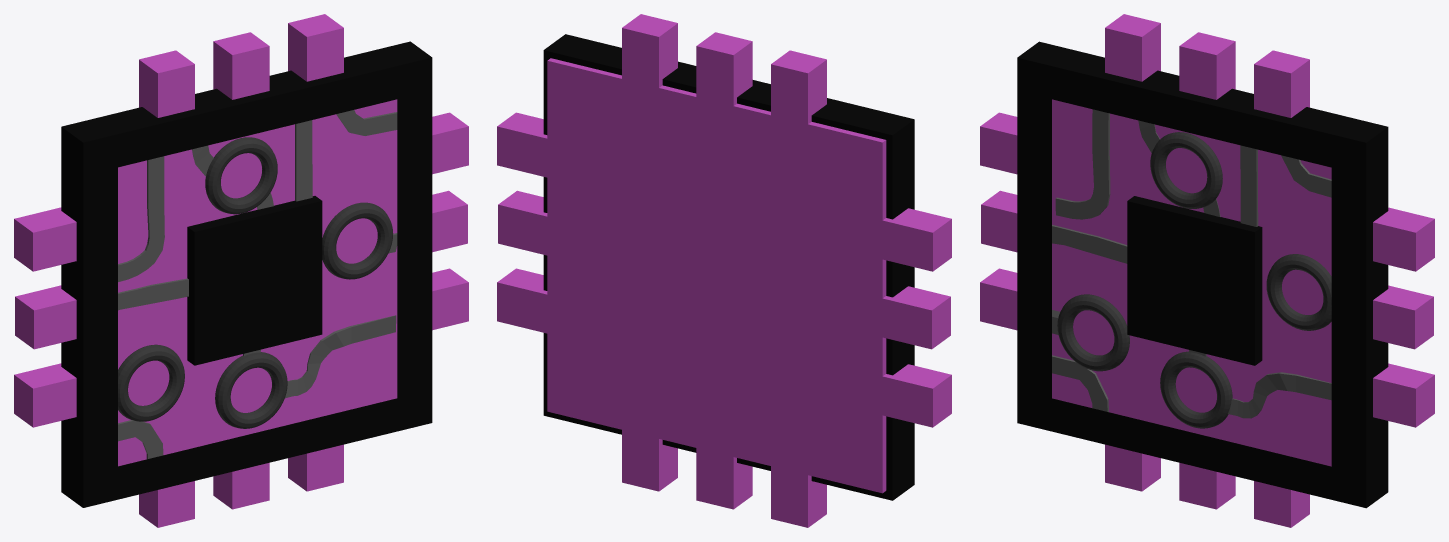
Rendered from chip8.gltf.
3 views of the same model, side by side, from view 1: azimuth 30°, elevation 25°; view 2: azimuth 150°, elevation 25°; view 3: azimuth 330°, elevation 25° (orthographic).
Parts seen in each view (by area): view 1: Cube, Cube2, Cube3, Torus, Cube1; view 2: Cube, Cube2; view 3: Cube, Cube2, Cube3, Torus, Cube1.
Part boxes in pixels (left/top/right/bottom): Cube: left=14, top=14, right=468, bottom=527; Cube2: left=61, top=41, right=432, bottom=507; Cube3: left=187, top=196, right=322, bottom=365; Torus: left=118, top=137, right=393, bottom=428; Cube1: left=118, top=110, right=397, bottom=459; Cube: left=497, top=14, right=951, bottom=527; Cube2: left=543, top=34, right=914, bottom=500; Cube: left=980, top=14, right=1434, bottom=527; Cube2: left=1017, top=41, right=1388, bottom=508; Cube3: left=1127, top=196, right=1262, bottom=365; Torus: left=1057, top=132, right=1331, bottom=428; Cube1: left=1052, top=109, right=1331, bottom=418.
Size of the model in its own units: 2.6 by 2.59 by 0.2705.
